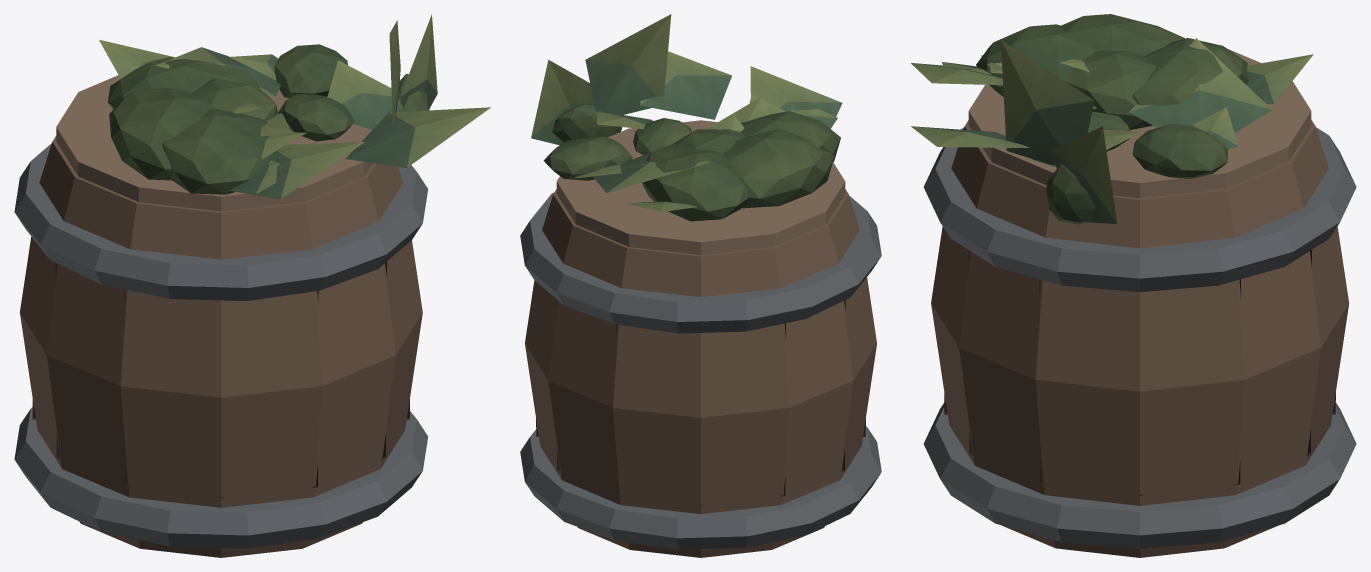
The model's file is kit_barrel.glb.
The picture shows the model from 3 angles, left to right: view 1: azimuth 30°, elevation 25°; view 2: azimuth 150°, elevation 25°; view 3: azimuth 270°, elevation 25°; orthographic projection. The views are drawn at different scales.
Visible parts, largest first — view 1: Barrel staves, Barrel iron hoop.001, Barrel iron hoop, Barrel lid, Woodland shared moss cushion.001, Woodland shared moss cushion.003, Woodland shared curved ivy leaf.012, Woodland shared moss cushion.007, Woodland shared curved ivy leaf.001, Woodland shared moss cushion.005, Woodland shared curved ivy leaf.011, Woodland shared moss cushion.006 (+8 smaller); view 2: Barrel staves, Barrel iron hoop.001, Barrel iron hoop, Barrel lid, Woodland shared moss cushion.003, Woodland shared curved ivy leaf.004, Woodland shared moss cushion.007, Woodland shared curved ivy leaf.012, Woodland shared curved ivy leaf.003, Woodland shared moss cushion.005, Woodland shared curved ivy leaf.001, Woodland shared moss cushion.001 (+7 smaller); view 3: Barrel staves, Barrel iron hoop.001, Barrel iron hoop, Barrel lid, Woodland shared curved ivy leaf.004, Woodland shared moss cushion.007, Woodland shared curved ivy leaf.010, Woodland shared moss cushion.004, Woodland shared moss cushion.005, Woodland shared moss cushion.001, Woodland shared curved ivy leaf.003, Woodland shared moss cushion.003 (+6 smaller).
Boxes of the visible parts, x1,y1,x2,y2 form: Barrel staves: [20, 136, 422, 557]; Barrel iron hoop.001: [14, 143, 428, 300]; Barrel iron hoop: [14, 407, 428, 548]; Barrel lid: [56, 75, 372, 211]; Woodland shared moss cushion.001: [162, 108, 273, 194]; Woodland shared moss cushion.003: [109, 87, 212, 180]; Woodland shared curved ivy leaf.012: [345, 107, 490, 167]; Woodland shared moss cushion.007: [108, 57, 261, 109]; Woodland shared curved ivy leaf.001: [230, 142, 364, 199]; Woodland shared moss cushion.005: [274, 44, 347, 98]; Woodland shared curved ivy leaf.011: [327, 60, 402, 129]; Woodland shared moss cushion.006: [278, 94, 354, 141]; Barrel staves: [525, 189, 876, 557]; Barrel iron hoop.001: [520, 192, 881, 333]; Barrel iron hoop: [520, 426, 881, 549]; Barrel lid: [556, 120, 845, 254]; Woodland shared moss cushion.003: [723, 128, 834, 208]; Woodland shared curved ivy leaf.004: [585, 14, 671, 114]; Woodland shared moss cushion.007: [642, 144, 748, 221]; Woodland shared curved ivy leaf.012: [640, 51, 731, 119]; Woodland shared curved ivy leaf.003: [531, 60, 594, 145]; Woodland shared moss cushion.005: [543, 136, 632, 180]; Woodland shared curved ivy leaf.001: [750, 66, 842, 116]; Woodland shared moss cushion.001: [741, 111, 840, 161]; Barrel staves: [931, 120, 1349, 557]; Barrel iron hoop.001: [923, 127, 1356, 292]; Barrel iron hoop: [923, 402, 1356, 548]; Barrel lid: [968, 49, 1311, 198]; Woodland shared curved ivy leaf.004: [1001, 40, 1094, 164]; Woodland shared moss cushion.007: [1132, 38, 1248, 106]; Woodland shared curved ivy leaf.010: [1129, 38, 1272, 132]; Woodland shared moss cushion.004: [1066, 50, 1156, 129]; Woodland shared moss cushion.005: [1132, 124, 1228, 178]; Woodland shared moss cushion.001: [976, 24, 1094, 96]; Woodland shared curved ivy leaf.003: [1051, 126, 1117, 223]; Woodland shared moss cushion.003: [1059, 14, 1184, 55].
Bounding box in the file's own units: 0.686 × 0.8146 × 0.6616.
Materials: 7 (3 with a texture image).
